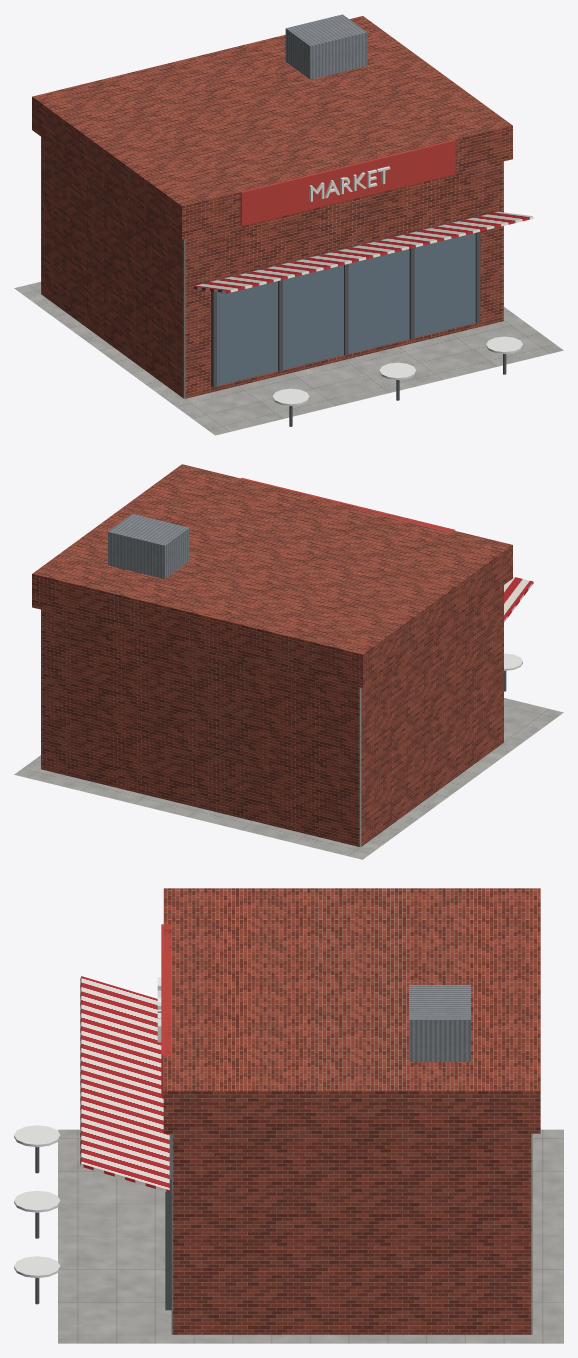
The model's file is shop_0.gltf.
The picture shows the model from 3 angles, top to bottom: view 1: azimuth 30°, elevation 25°; view 2: azimuth 150°, elevation 25°; view 3: azimuth 270°, elevation 25°; orthographic projection. The views are drawn at different scales.
Parts seen in each view (by area): view 1: shop_0; view 2: shop_0; view 3: shop_0.
Part boxes in pixels (x1,y1,x2,y2): shop_0: [14, 14, 563, 435]; shop_0: [14, 464, 563, 859]; shop_0: [14, 888, 563, 1343].
Size of the model in its own units: 1.96 by 1.24 by 2.13.
Materials: 9 (4 with a texture image).
